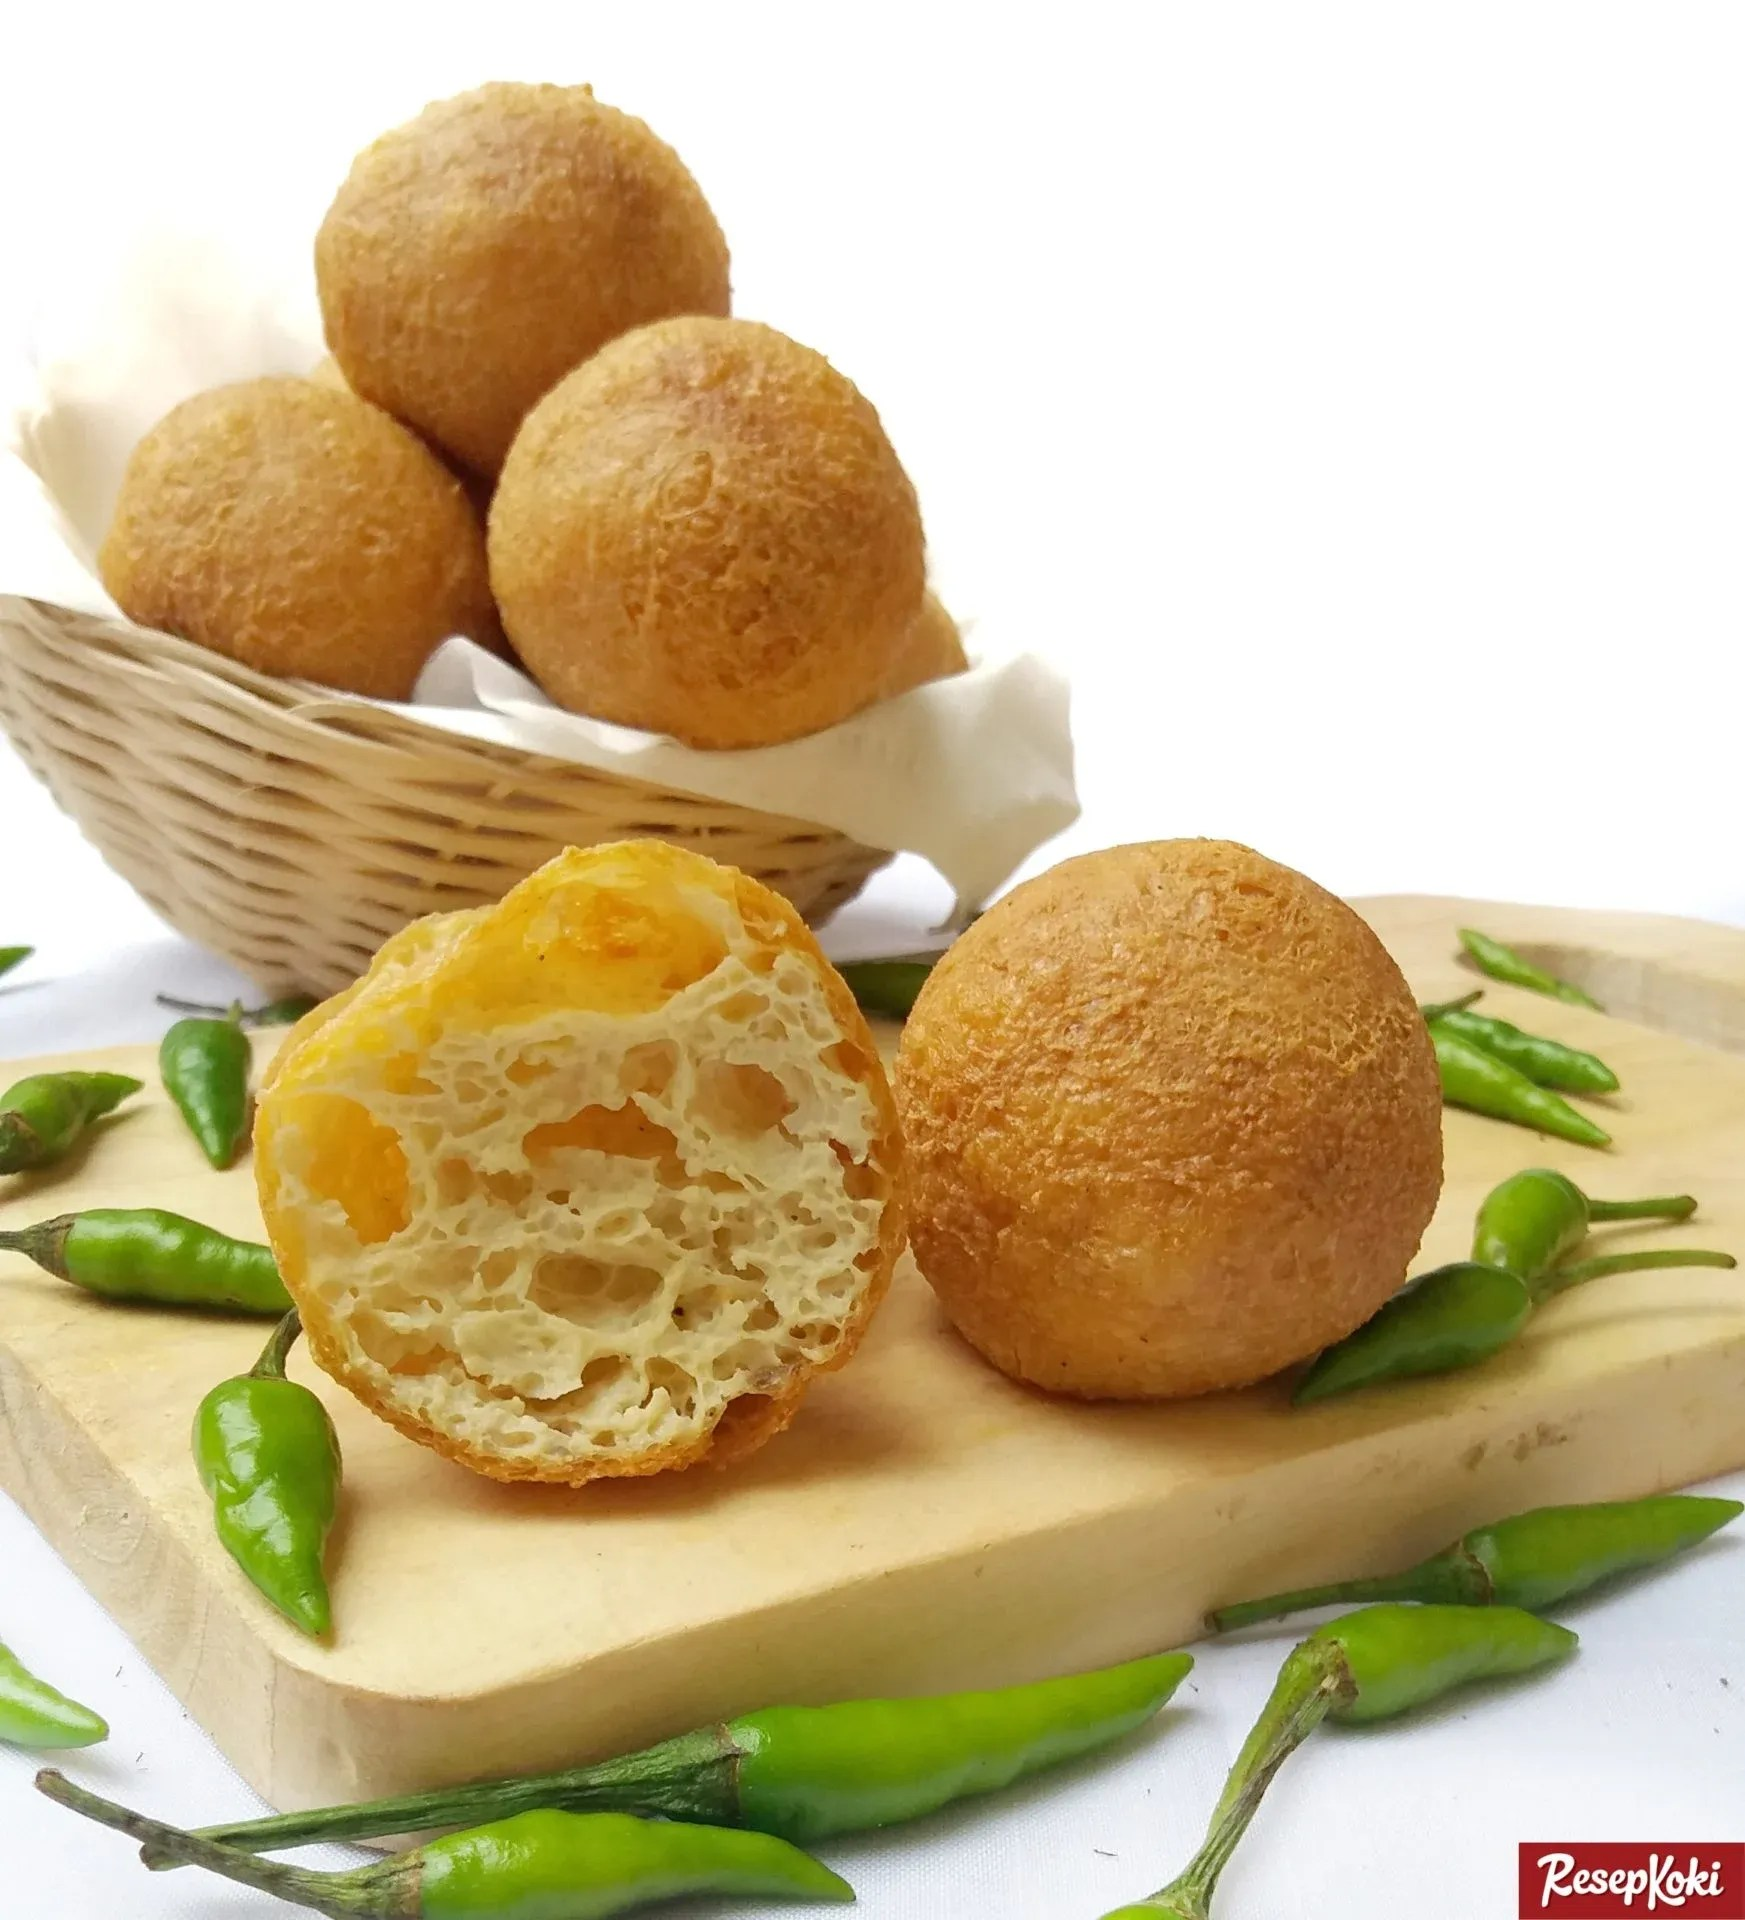Tahu: (182, 835, 877, 1544), (883, 751, 1517, 1432), (504, 346, 924, 759), (107, 345, 482, 714), (395, 89, 669, 324)
